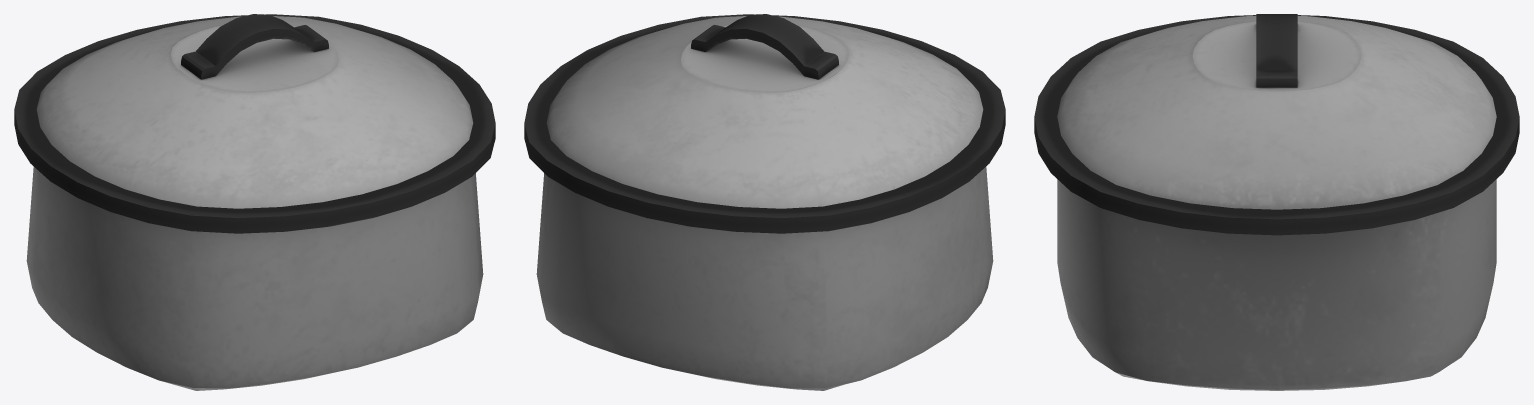
Rendered from pot.fbx.
3 views of the same model, side by side, from view 1: azimuth 30°, elevation 25°; view 2: azimuth 150°, elevation 25°; view 3: azimuth 270°, elevation 25° (orthographic). The views are drawn at different scales.
Visible parts, largest first — view 1: pot lid, pot; view 2: pot lid, pot; view 3: pot lid, pot.
Boxes of the visible parts, <box> form: pot lid: <box>14,14,495,233</box>; pot: <box>26,167,483,390</box>; pot lid: <box>524,14,1005,233</box>; pot: <box>536,167,993,390</box>; pot lid: <box>1034,14,1519,235</box>; pot: <box>1057,179,1496,390</box>.
Size of the model in its own units: 96.8 by 63.37 by 96.8.
